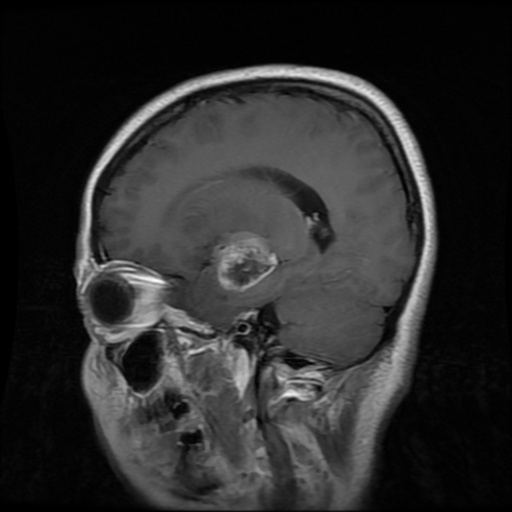glioma: (214, 231, 277, 292)
